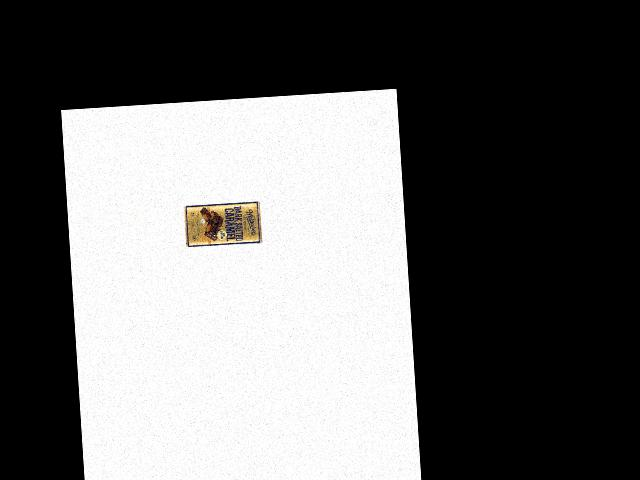chocolate: (182, 199, 261, 251)
